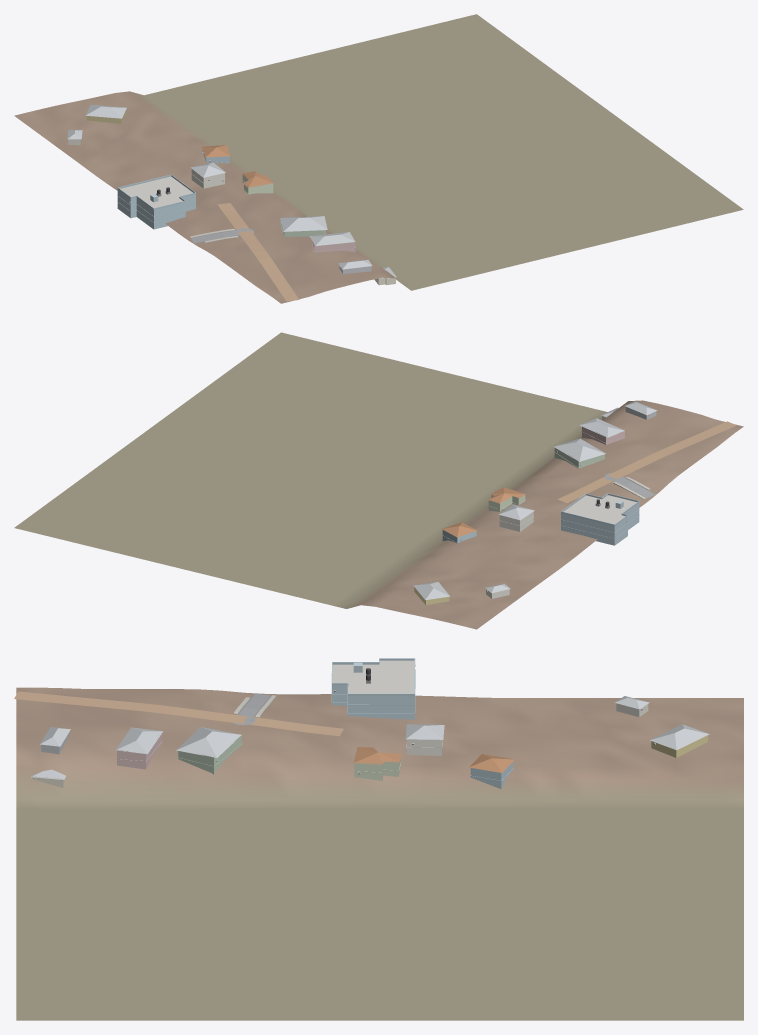
3 views of the same model, one above another, from view 1: azimuth 30°, elevation 25°; view 2: azimuth 150°, elevation 25°; view 3: azimuth 270°, elevation 25° (orthographic). The views are drawn at different scales.
Parts seen in each view (by area): view 1: Terrain-col, Buildings-col, Roads-col, Details; view 2: Terrain-col, Buildings-col, Roads-col, Details; view 3: Terrain-col, Buildings-col, Roads-col, Details.
Boxes of the visible parts, x1=… form: Terrain-col: x1=14, y1=14, x2=743, y2=303; Buildings-col: x1=67, y1=104, x2=396, y2=285; Roads-col: x1=191, y1=203, x2=299, y2=301; Details: x1=117, y1=118, x2=355, y2=266; Terrain-col: x1=14, y1=332, x2=743, y2=629; Buildings-col: x1=413, y1=401, x2=657, y2=604; Roads-col: x1=557, y1=421, x2=736, y2=502; Details: x1=442, y1=414, x2=650, y2=591; Terrain-col: x1=16, y1=687, x2=743, y2=1020; Buildings-col: x1=31, y1=660, x2=709, y2=789; Roads-col: x1=14, y1=691, x2=343, y2=736; Details: x1=116, y1=658, x2=655, y2=781.
Bounding box in the file's own units: 266 × 19.14 × 257.
